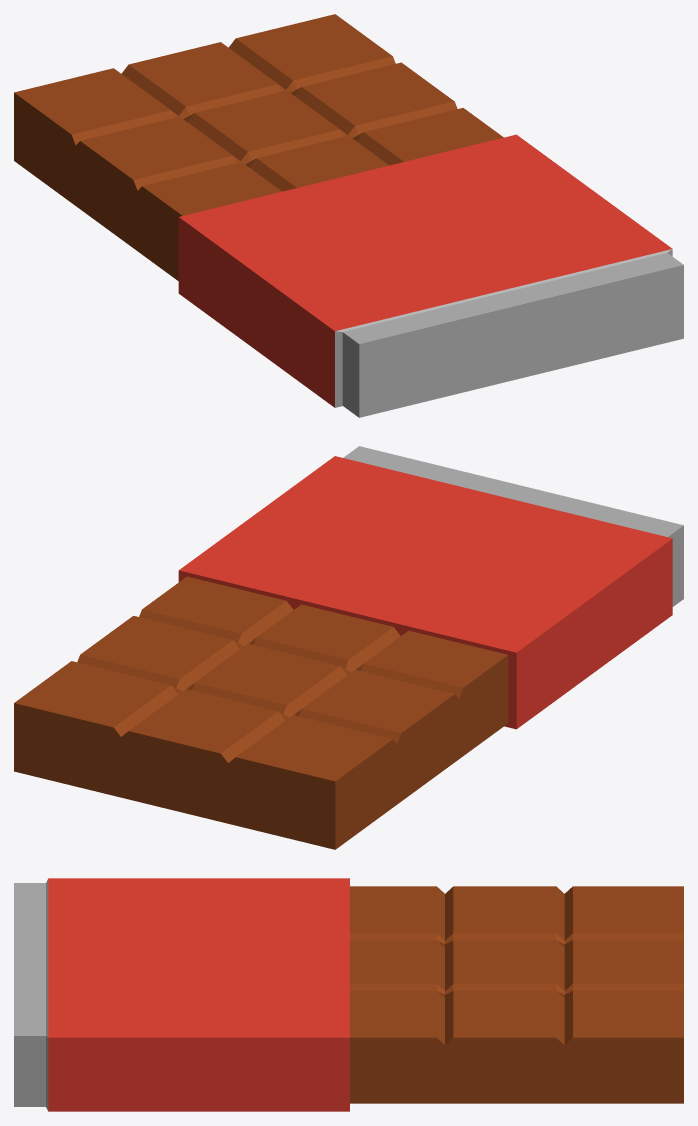
File: ChoclateIcon.fbx
The picture shows the model from 3 angles, top to bottom: view 1: azimuth 30°, elevation 25°; view 2: azimuth 150°, elevation 25°; view 3: azimuth 270°, elevation 25°; orthographic projection. The views are drawn at different scales.
Parts seen in each view (by area): view 1: Cube.005; view 2: Cube.005; view 3: Cube.005.
Part boxes in pixels (x1,y1,x2,y2): Cube.005: (14,14,683,417); Cube.005: (14,446,683,849); Cube.005: (14,878,683,1111).
Bounding box in the file's own units: 125 × 27.21 × 223.
